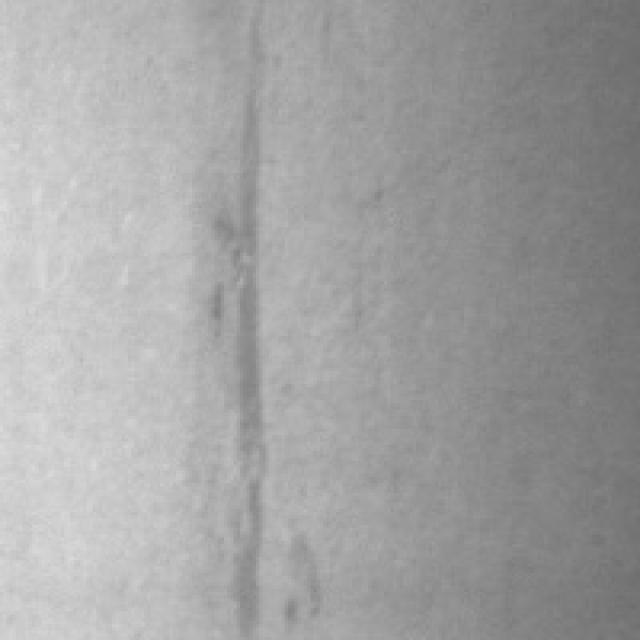inclusion: (198, 0, 278, 525), (214, 452, 320, 630)
